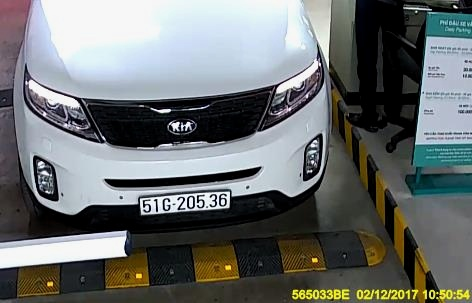plate: (135, 189, 231, 216)
